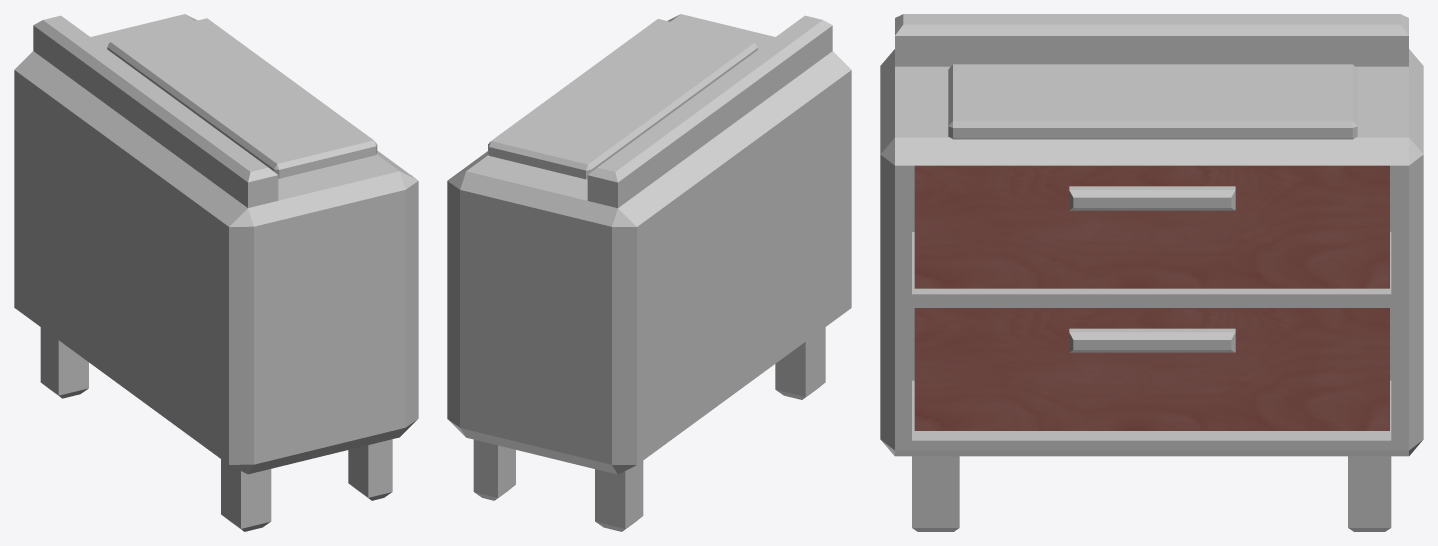
The model's file is changing_station.fbx.
3 views of the same model, side by side, from view 1: azimuth 30°, elevation 25°; view 2: azimuth 150°, elevation 25°; view 3: azimuth 270°, elevation 25° (orthographic). The views are drawn at different scales.
Parts seen in each view (by area): view 1: changing_station, change_bed; view 2: changing_station, change_bed; view 3: changing_station, pasted__pasted__draw1, draw2, change_bed.
Part boxes in pixels (left/top/right/bottom): changing_station: left=14, top=14, right=418, bottom=531; change_bed: left=107, top=18, right=377, bottom=178; changing_station: left=447, top=14, right=851, bottom=531; change_bed: left=488, top=19, right=757, bottom=179; changing_station: left=880, top=14, right=1423, bottom=531; pasted__pasted__draw1: left=914, top=165, right=1389, bottom=288; draw2: left=914, top=308, right=1389, bottom=430; change_bed: left=948, top=64, right=1357, bottom=139.
Bounding box in the file's own units: 0.9042 × 1.65 × 1.86.
